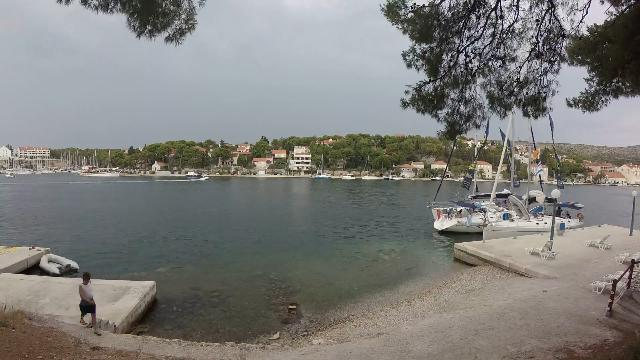speedboat: (188, 169, 214, 185)
